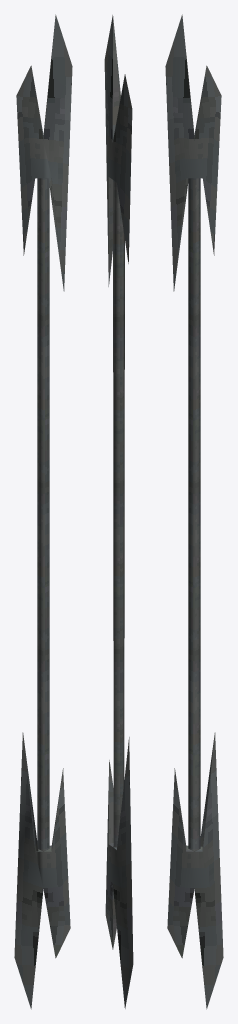
The model's file is wp_mle_lance_military_pike_l2.fbx.
3 views of the same model, side by side, from view 1: azimuth 90°, elevation 25°; view 2: azimuth 210°, elevation 25°; view 3: azimuth 270°, elevation 25° (orthographic).
Visible parts, largest first — view 1: mesh_node; view 2: mesh_node; view 3: mesh_node.
Boxes of the visible parts, x1,y1,x2,y2 form: mesh_node: [14, 14, 72, 1009]; mesh_node: [104, 15, 133, 1008]; mesh_node: [165, 14, 223, 1009].
Bounding box in the file's own units: 0.0191 × 1.44 × 0.0763.
1 material, 1 textured.
